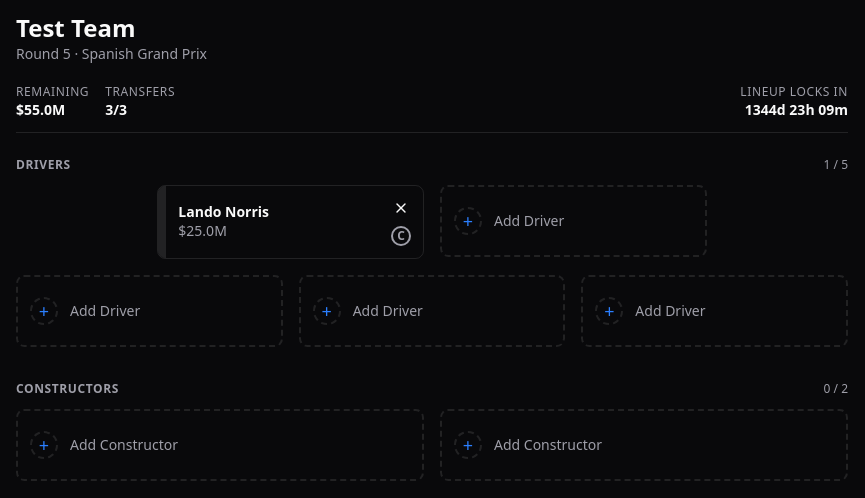
Scenario: My team lineup › refreshes the lineup after removing a driver
Click the button named "remove driver" at coordinates (401, 208), box [387,194,415,222]
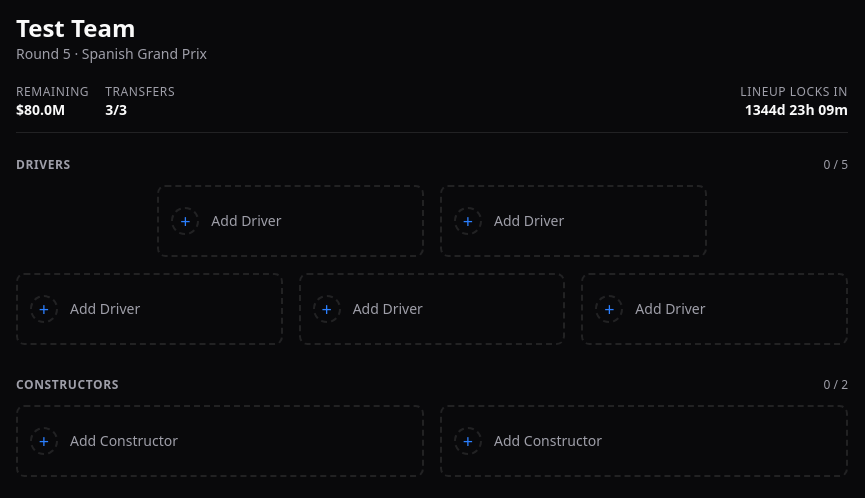
Expected: the text "Lando Norris" is gone
